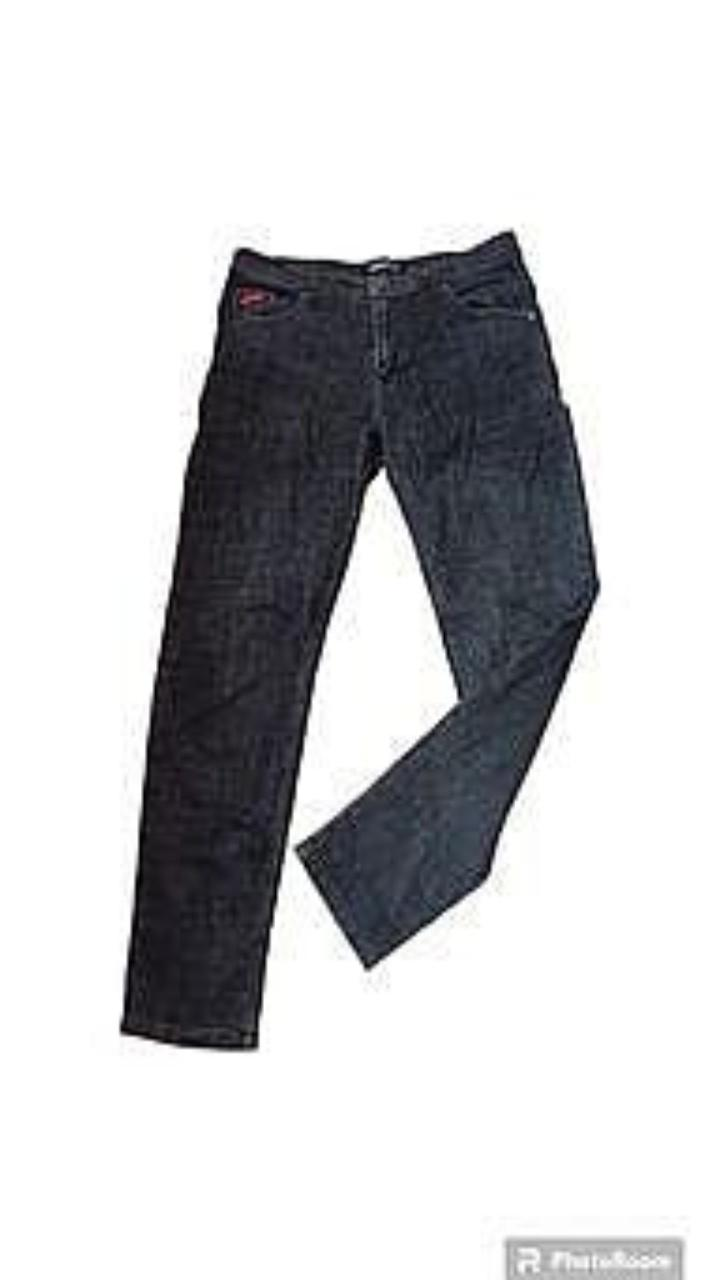Jeans: (122, 232, 597, 1047)
